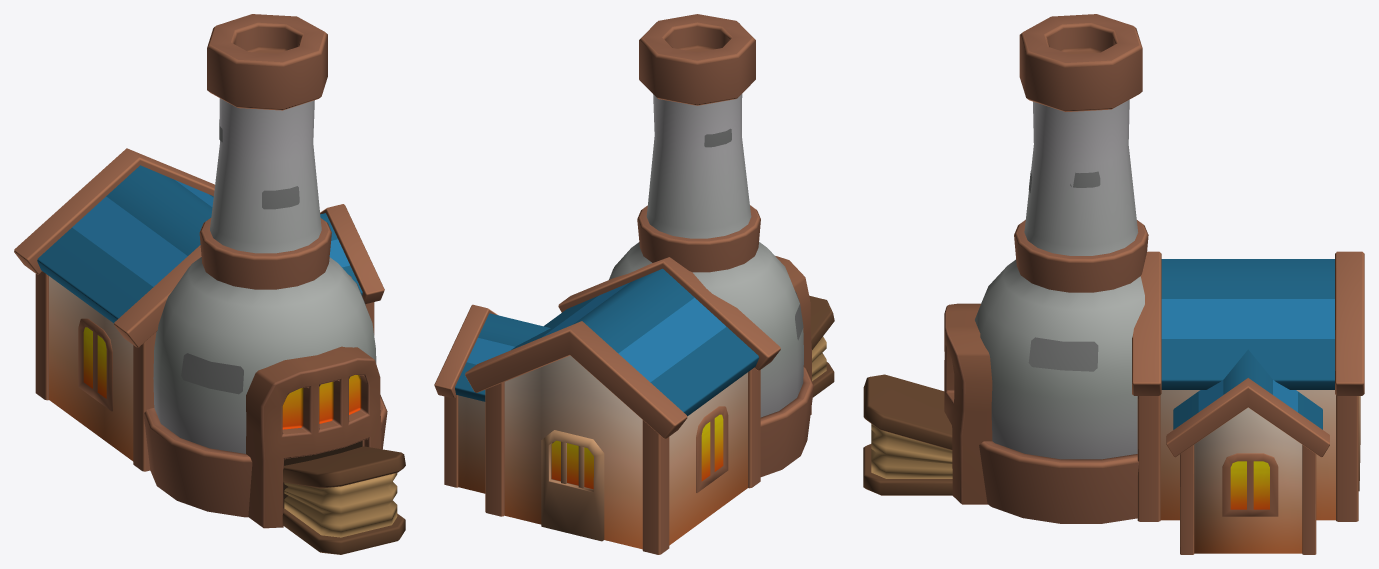
Rendered from Building_4.fbx.
3 views of the same model, side by side, from view 1: azimuth 30°, elevation 25°; view 2: azimuth 150°, elevation 25°; view 3: azimuth 270°, elevation 25° (orthographic). The views are drawn at different scales.
Parts seen in each view (by area): view 1: Building_4; view 2: Building_4; view 3: Building_4.
Boxes of the visible parts, x1,y1,x2,y2 form: Building_4: (14,14,405,554); Building_4: (434,14,834,554); Building_4: (863,14,1364,554).
Size of the model in its own units: 300 by 450 by 466.
